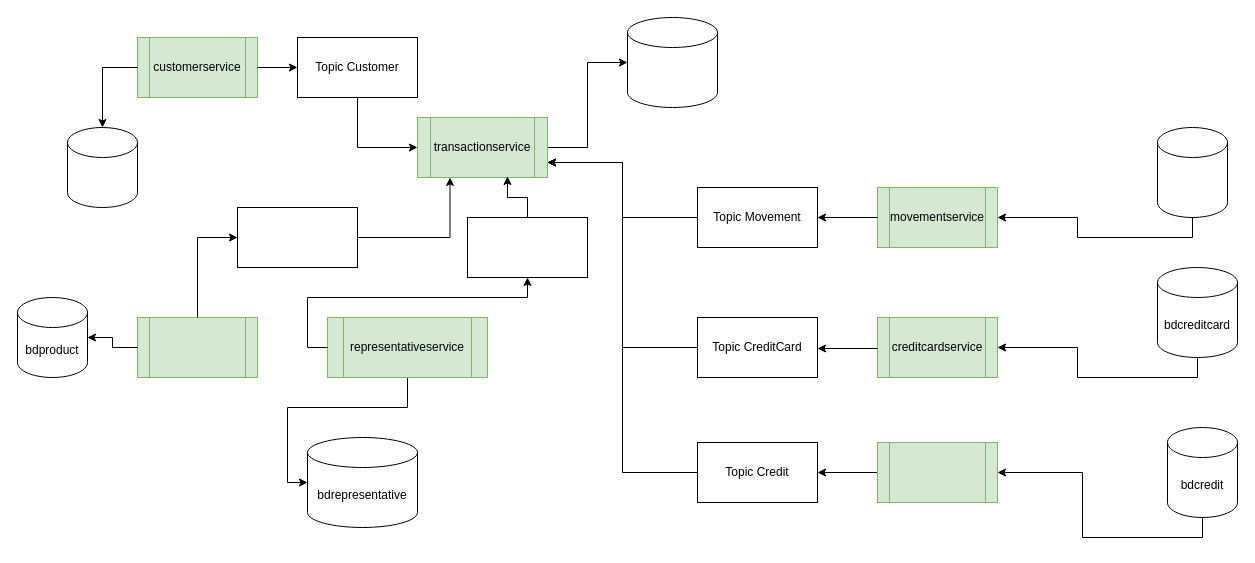
Image size: 1255x563. Some labels were removed from this diagram. Each missing label, with the box of its shape:
bdcustomer: (66, 126, 138, 208)
bdmovement: (1156, 126, 1228, 218)
bdtransaction: (626, 16, 718, 108)
creditservice: (876, 442, 998, 502)
productservice: (136, 316, 258, 378)
Topic Product: (236, 206, 358, 268)
Topic Representative: (466, 216, 588, 278)
